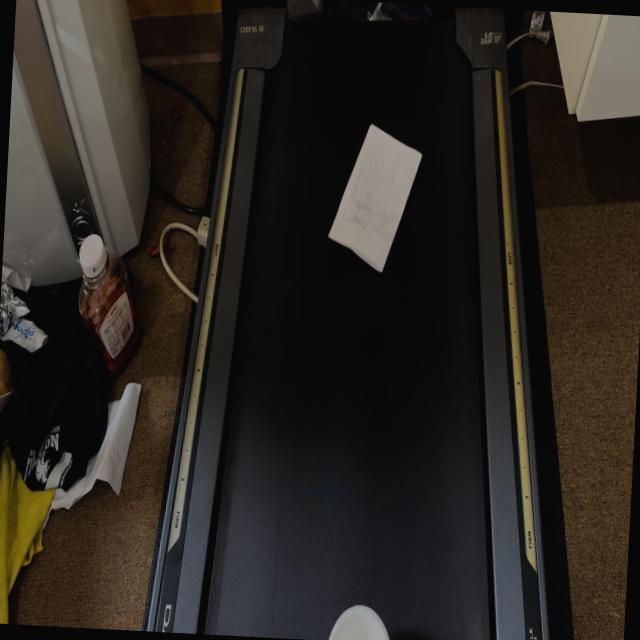Recycle: (326, 120, 425, 276)
